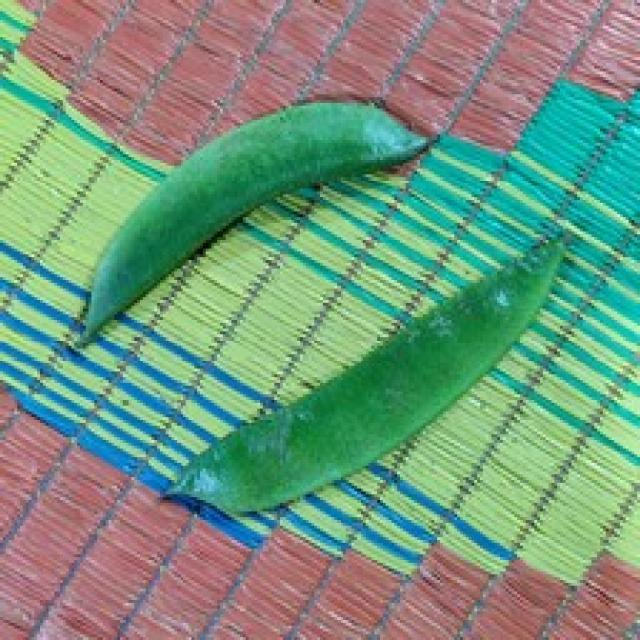Bean: (160, 229, 566, 517), (71, 97, 432, 349)
